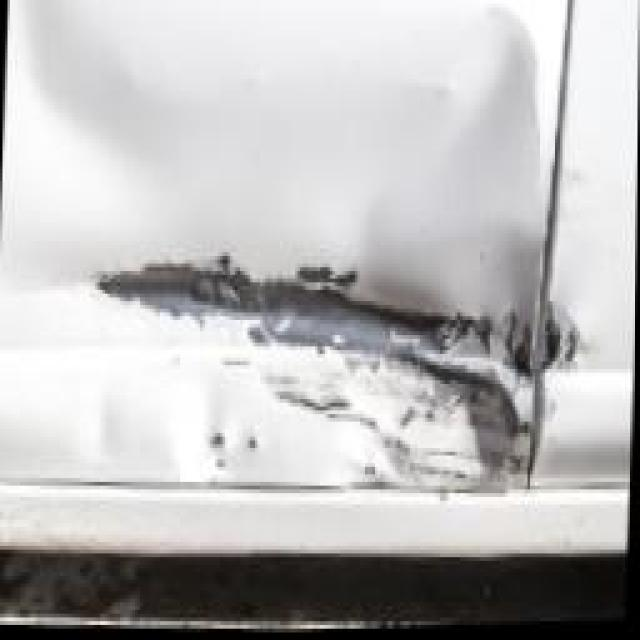Door: (0, 0, 565, 553)
Fender: (540, 98, 640, 507)
